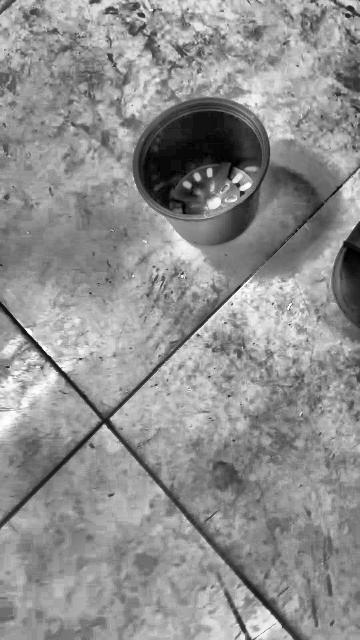pot: (132, 98, 271, 245)
